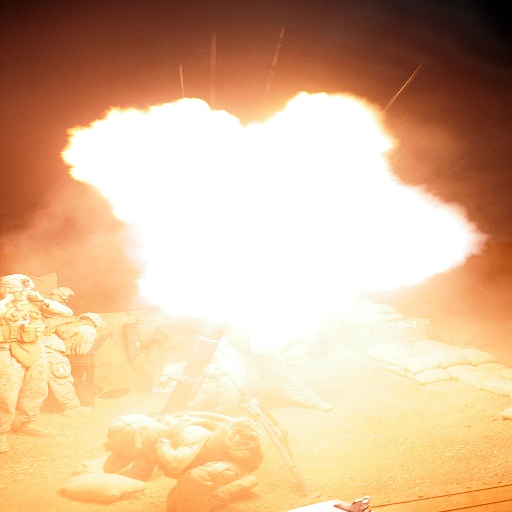hand: (145, 430, 161, 441), (26, 286, 39, 298), (49, 293, 61, 301), (6, 292, 14, 302)
